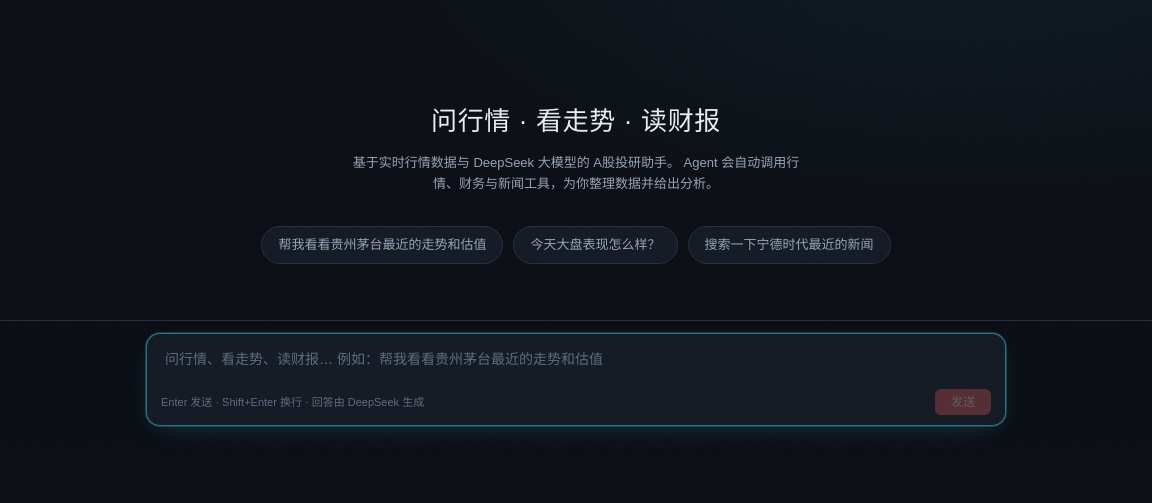
Test case: ThreadArea 流中断与错误场景 › 发送失败后可重试（重发清空错误横幅）
This screenshot has width=1152, height=503.
Expected: the text box with placeholder "问行情、看走势、读财报… 例如：帮我看看贵州茅台最近的走势和估值" is shown, [155, 342, 997, 376]
Click the button "帮我看看贵州茅台最近的走势和估值": (382, 245) [262, 226, 504, 264]
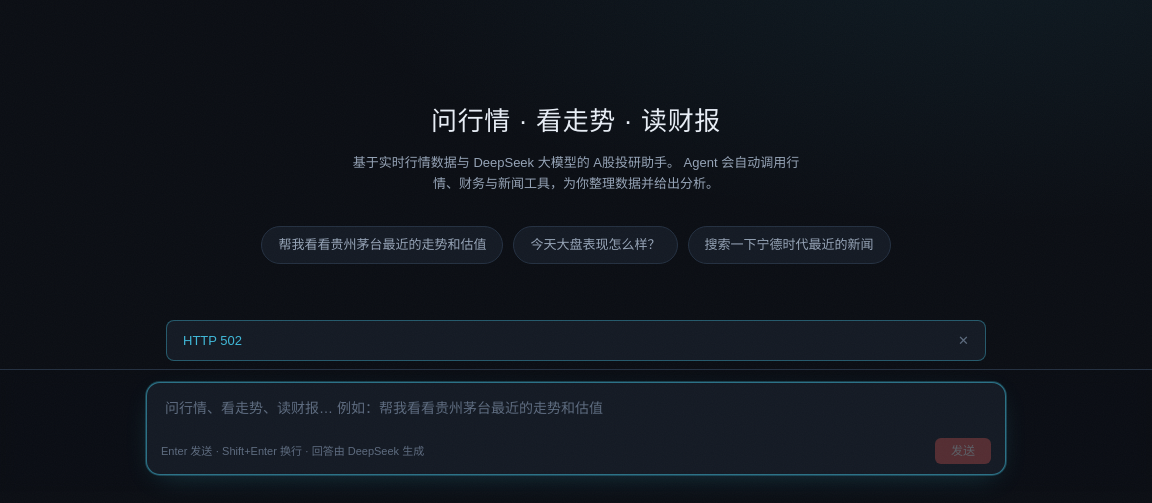
Expected: the text "HTTP 502" is shown, [183, 330, 242, 350]
Click the button "今天大盘表现怎么样？": (596, 245) [514, 226, 678, 264]
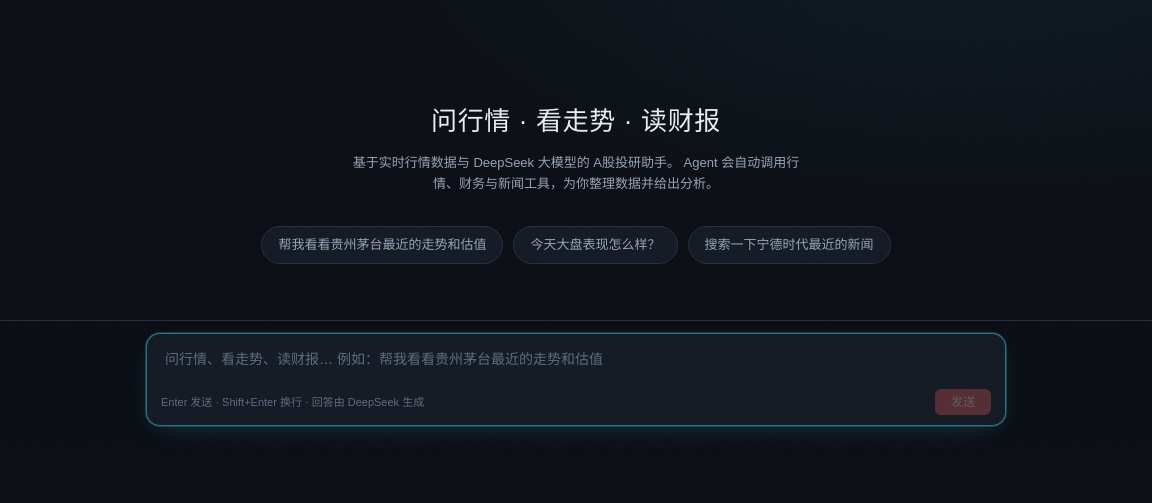
Expected: the text "HTTP 502" is gone
